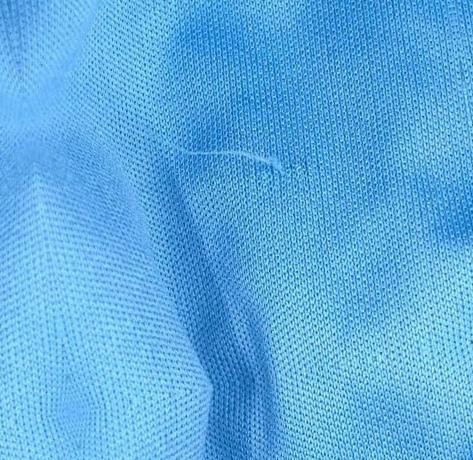snag: (162, 131, 309, 192)
